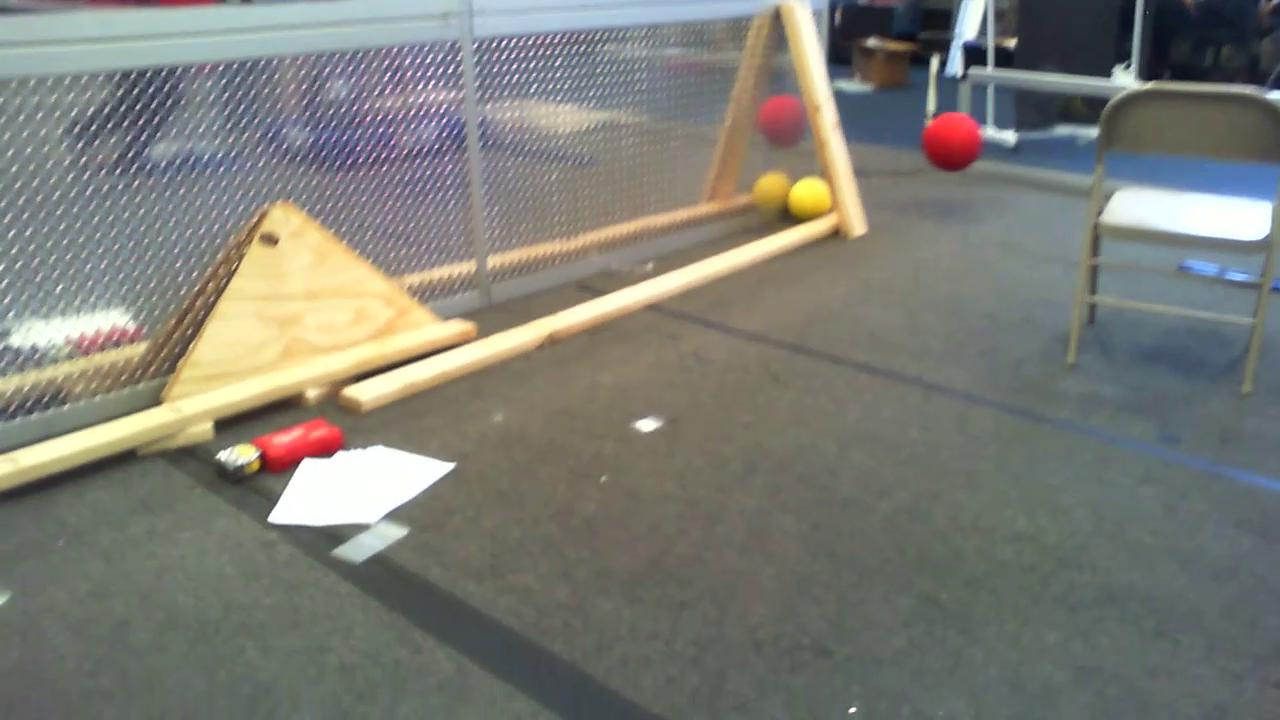Red_Ball: (916, 105, 1000, 177), (756, 89, 806, 149)
